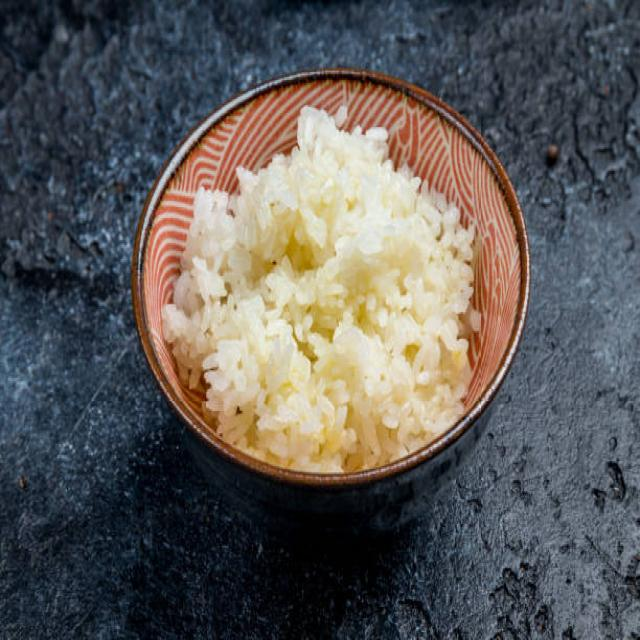Rice: (162, 106, 482, 474)
